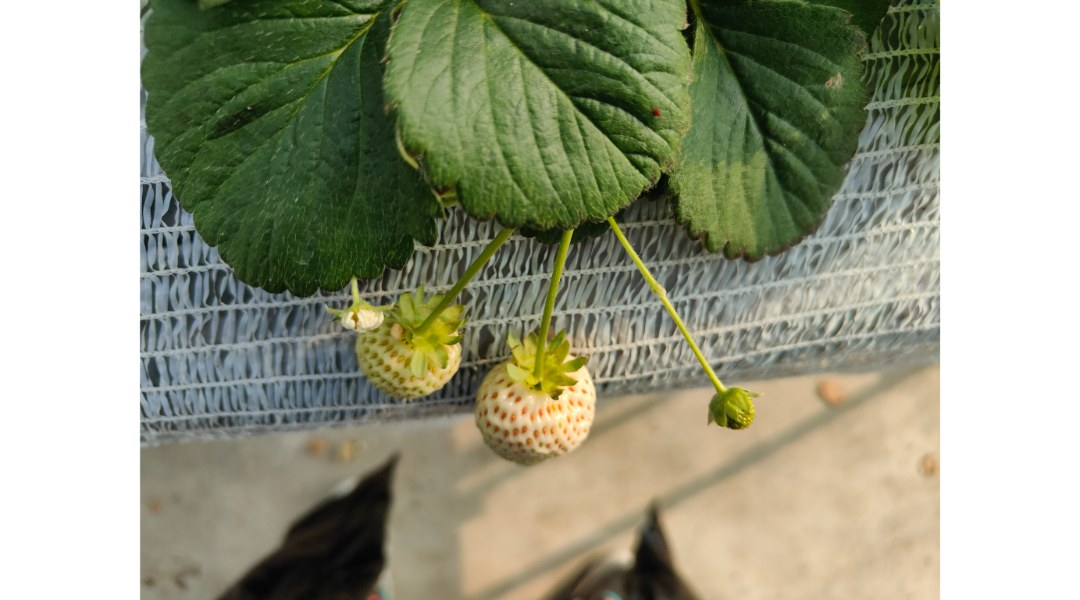berry: (483, 327, 599, 464), (356, 283, 463, 401), (709, 380, 759, 432), (329, 292, 384, 334)
strain: (608, 216, 729, 391), (415, 225, 512, 333), (536, 215, 590, 370)
